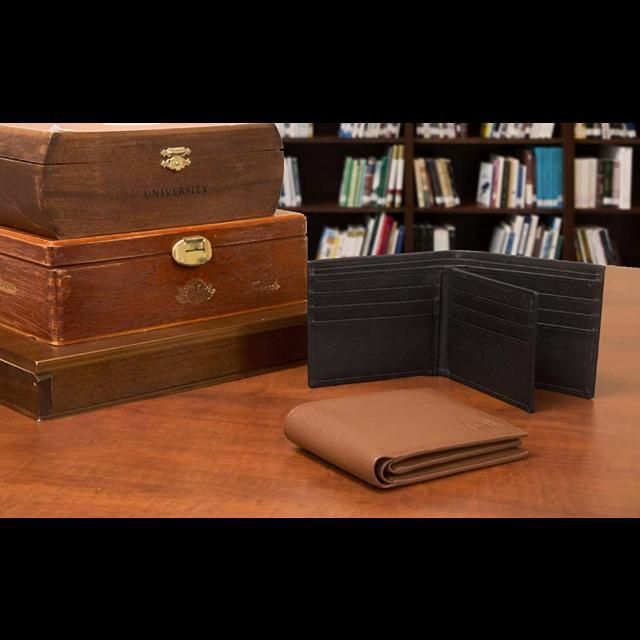wallet: (296, 246, 604, 409), (283, 384, 532, 502)
